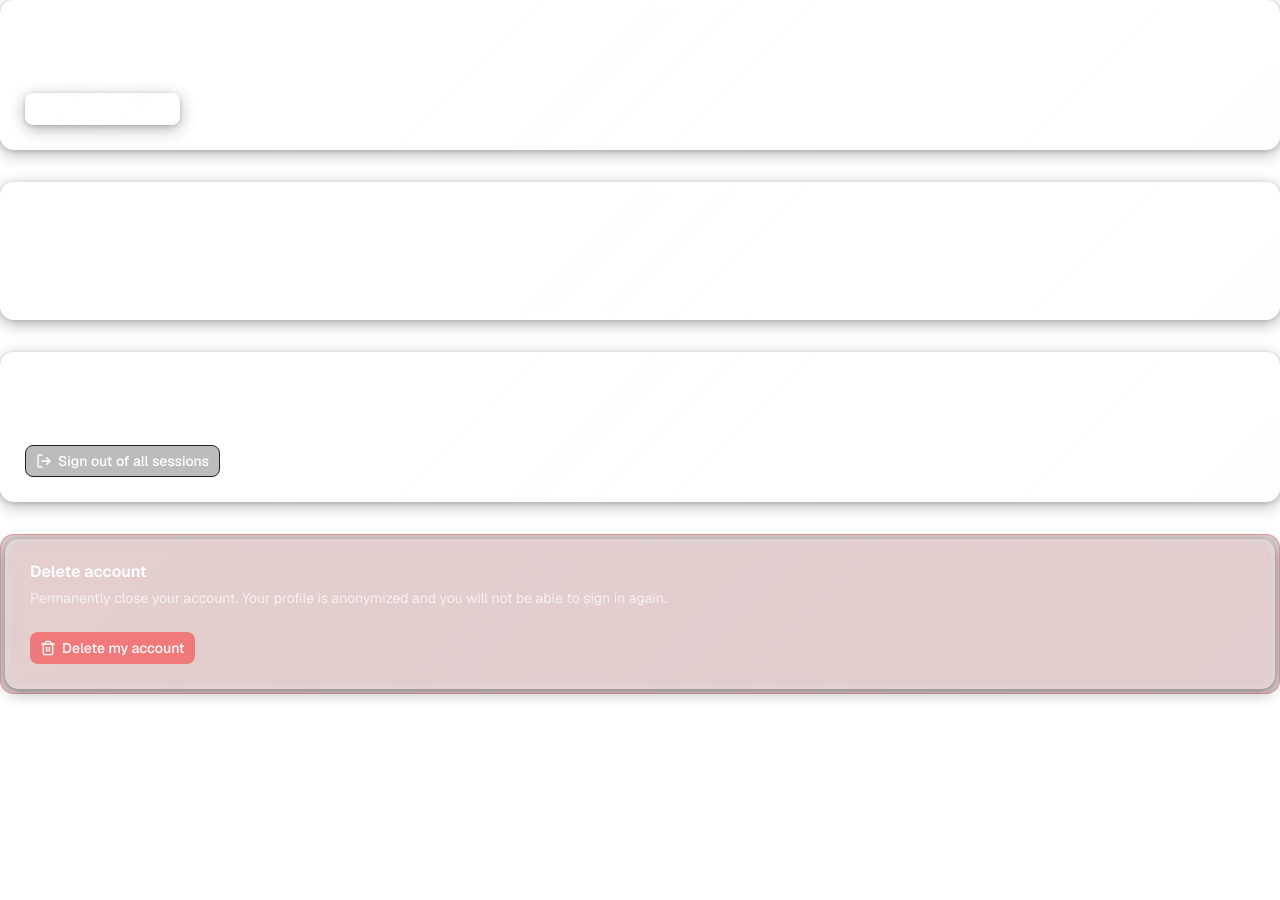
Test: DangerZoneSettingsPage › submits delete account with confirmation and password
Later steps or results of the test are not shown.
Click the button "Delete my account".
click(112, 648)  # box [30, 632, 195, 664]
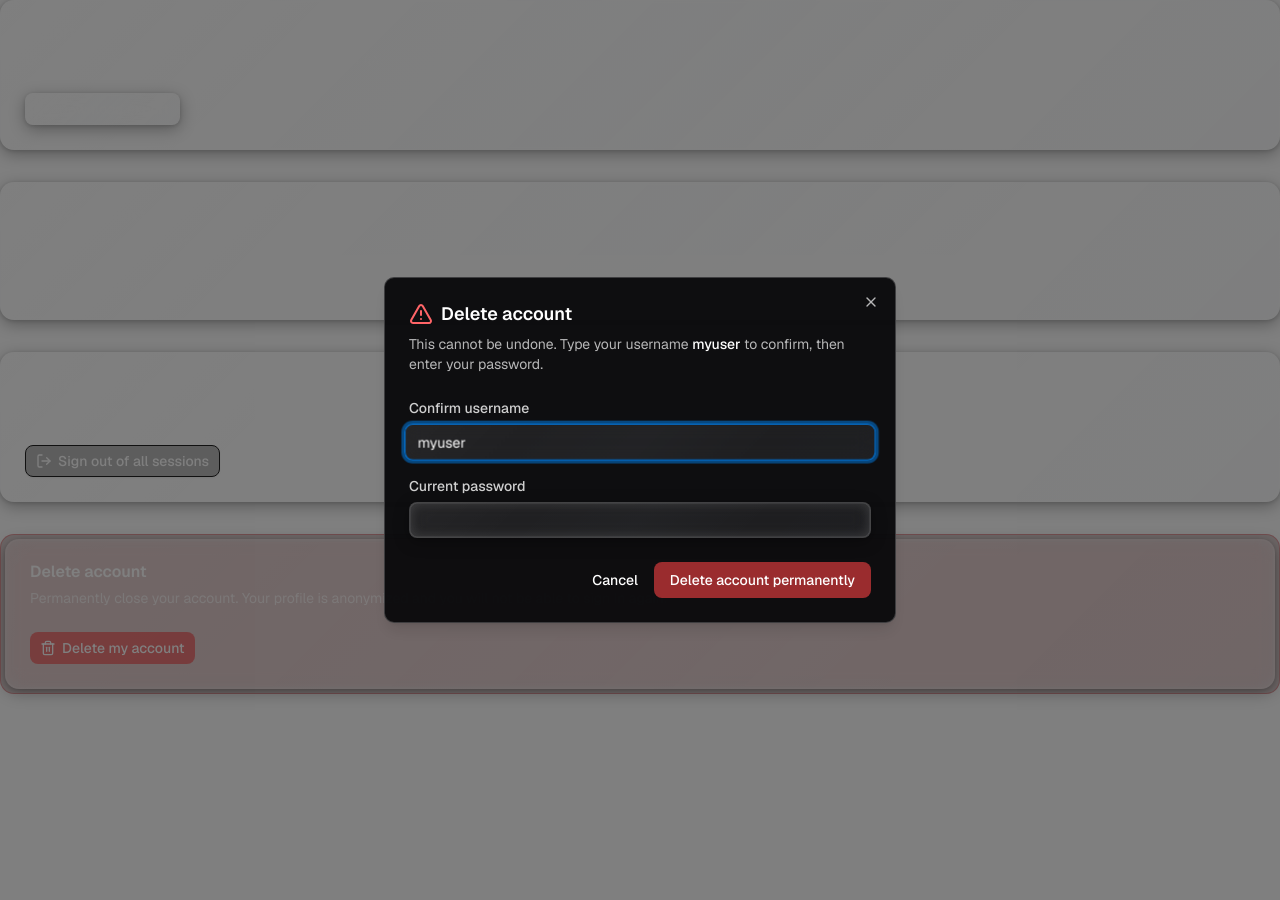
Expected: the heading "Delete account" is shown, [441, 305, 572, 323]
